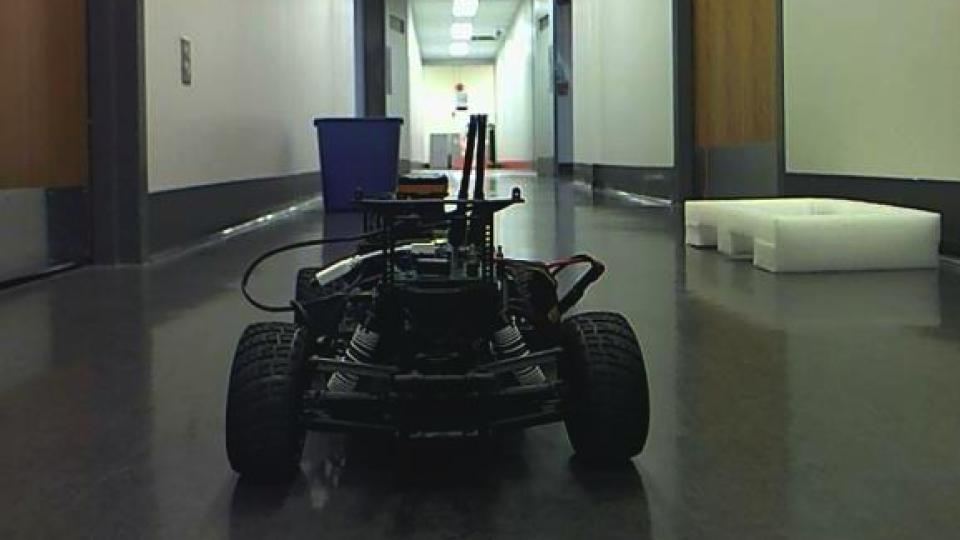car: (221, 112, 654, 486)
